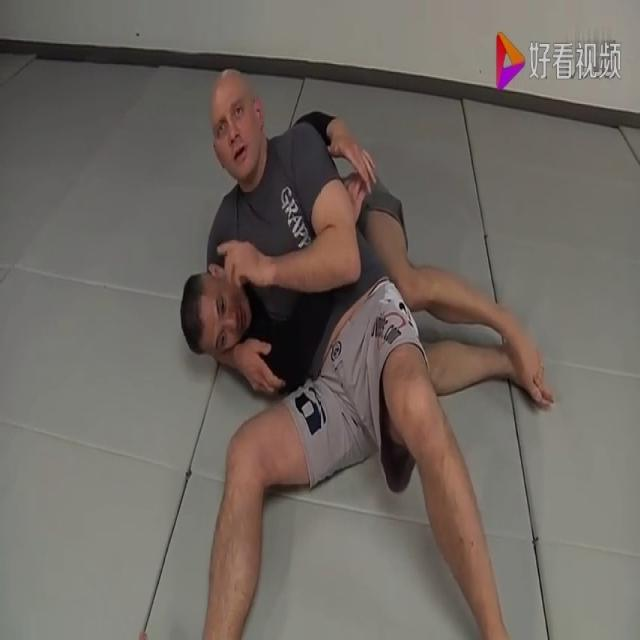fight: (145, 88, 582, 639)
